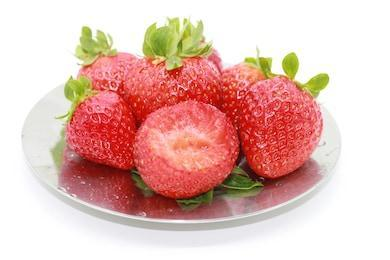Fresa: (235, 73, 327, 184), (122, 50, 231, 127), (60, 87, 142, 175)
